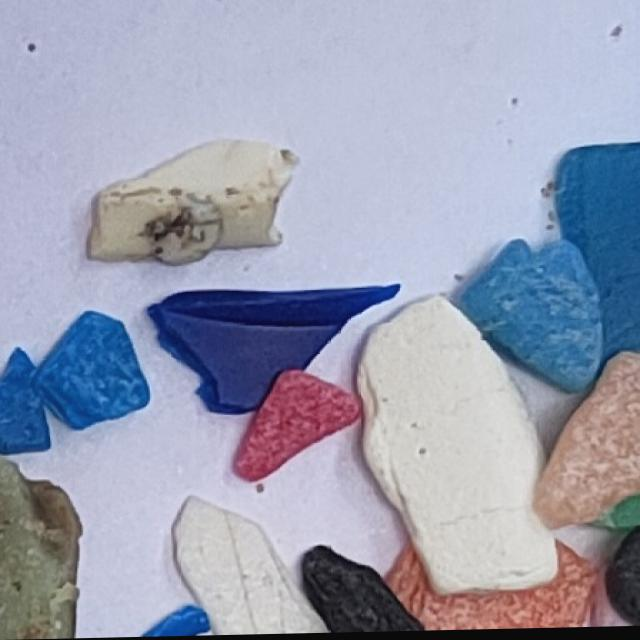microplastic: (459, 146, 640, 395), (147, 289, 403, 416), (0, 302, 156, 468), (205, 350, 367, 488)
